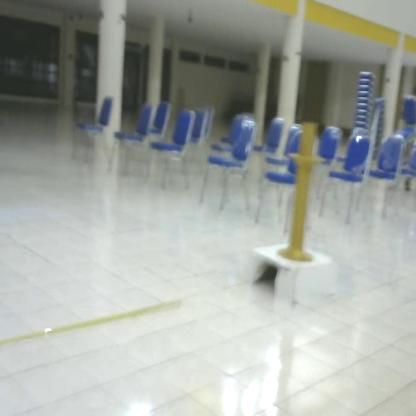pole: (277, 120, 329, 271)
